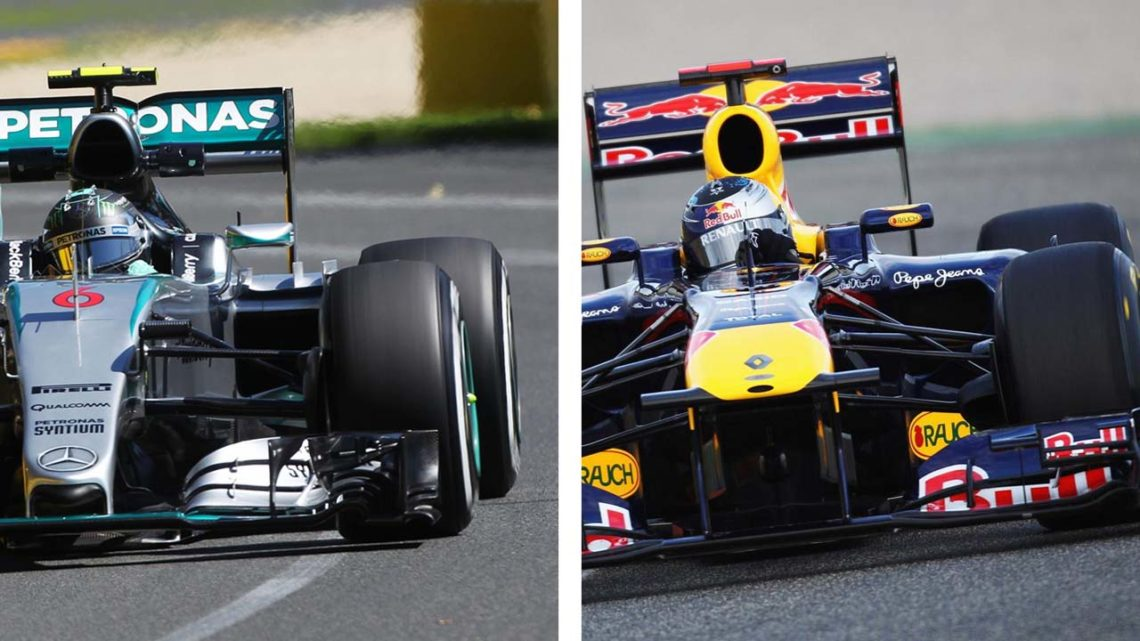f1_car: (585, 32, 1138, 601), (1, 47, 531, 561)
